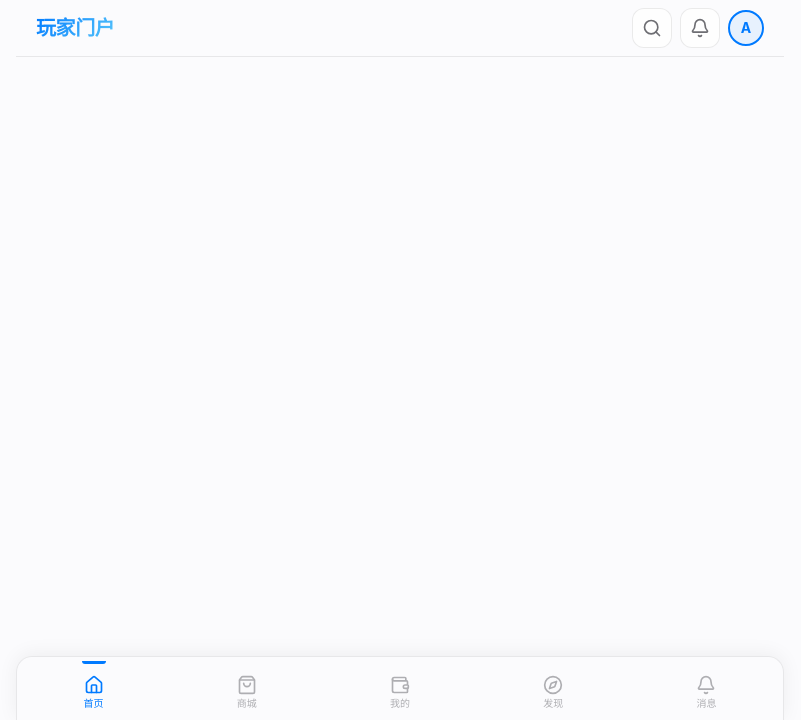
Test: Layout — /guild 头像下拉切换项 › 单角色账号：不显示任何切换项
The image size is (801, 720).
Click the button named "用户菜单": (746, 28) top-left (728, 10), bottom-right (764, 46)
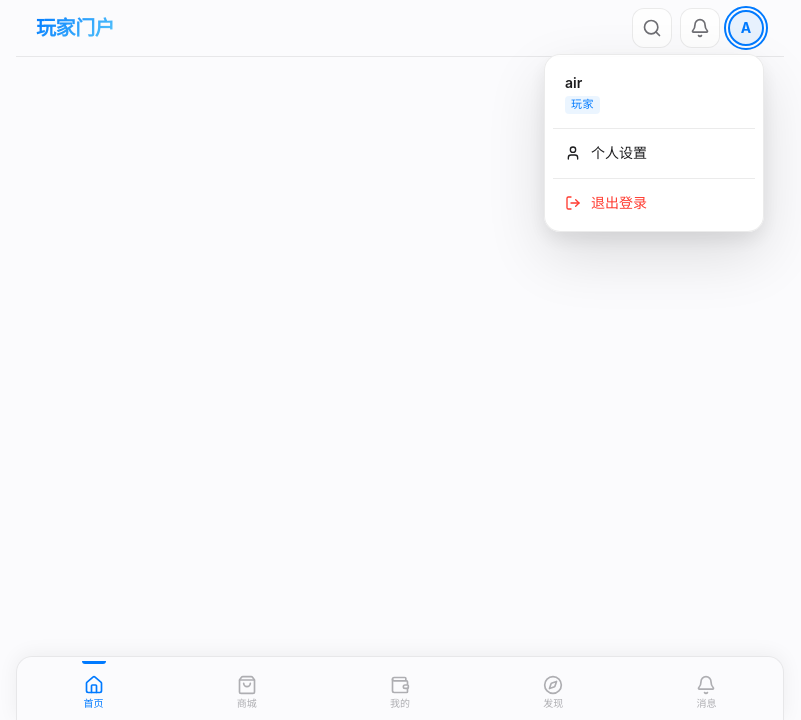
Expected: the button "个人设置" is shown, top-left (553, 133), bottom-right (755, 174)
Expected: the button "退出登录" is shown, top-left (553, 182), bottom-right (755, 223)
